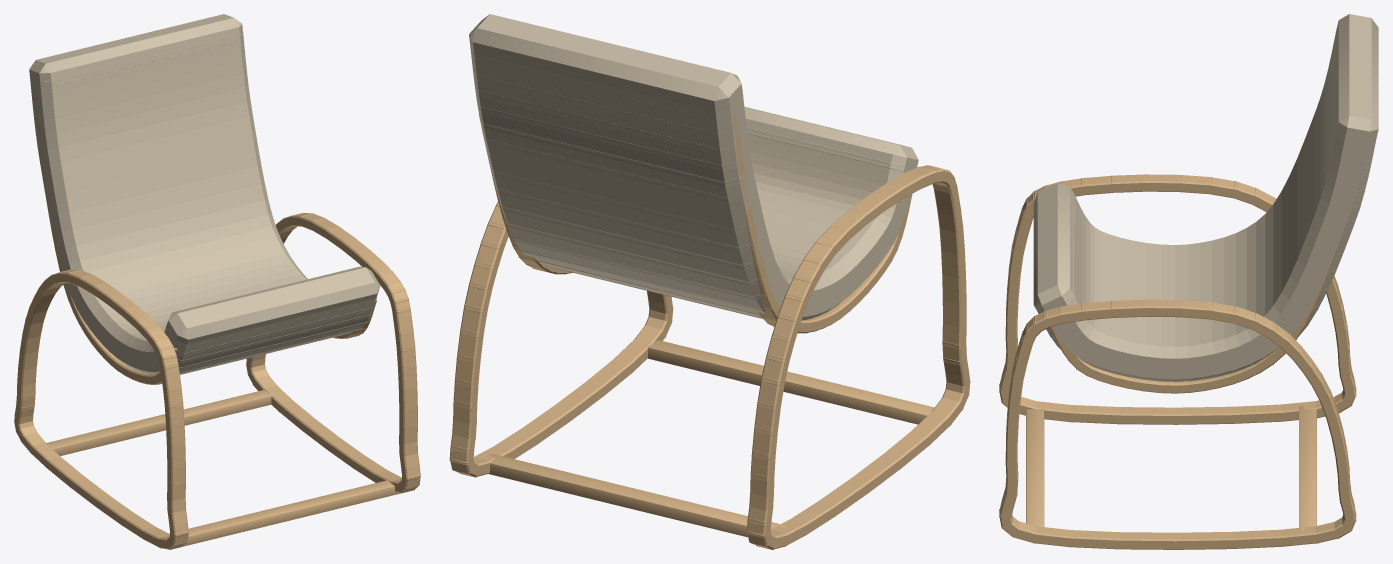
File: bentwood-armchair.glb
3 views of the same model, side by side, from view 1: azimuth 30°, elevation 25°; view 2: azimuth 150°, elevation 25°; view 3: azimuth 270°, elevation 25° (orthographic). The views are drawn at different scales.
Visible parts, largest first — view 1: bentwood-armchair; view 2: bentwood-armchair; view 3: bentwood-armchair.
Part boxes in pixels (x1,y1,x2,y2): bentwood-armchair: (14,14,420,549); bentwood-armchair: (449,14,970,549); bentwood-armchair: (999,14,1378,549).
Bounding box in the file's own units: 0.68 × 1 × 0.82.
